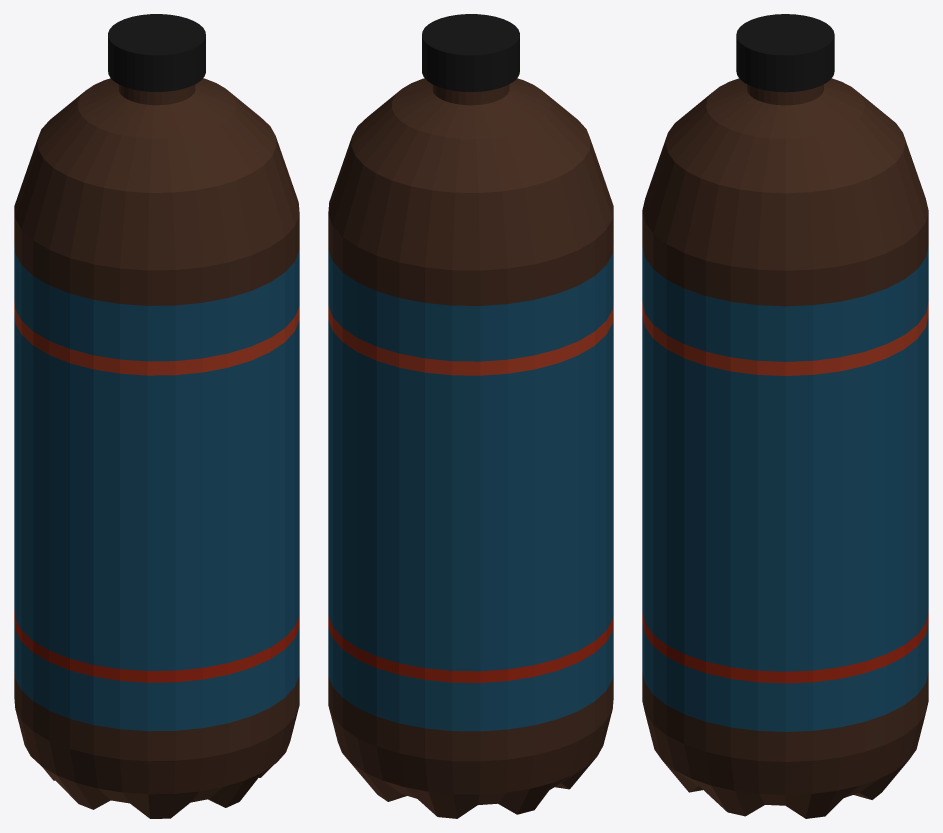
File: Small Cola Drink.fbx
3 views of the same model, side by side, from view 1: azimuth 30°, elevation 25°; view 2: azimuth 150°, elevation 25°; view 3: azimuth 270°, elevation 25° (orthographic).
Visible parts, largest first — view 1: Small Cola Drink; view 2: Small Cola Drink; view 3: Small Cola Drink.
Boxes of the visible parts, left/top/right/bottom form: Small Cola Drink: left=14, top=14, right=299, bottom=818; Small Cola Drink: left=328, top=14, right=613, bottom=818; Small Cola Drink: left=642, top=14, right=928, bottom=818.
Bounding box in the file's own units: 14.98 × 42.78 × 14.98.
1 material, 1 textured.
